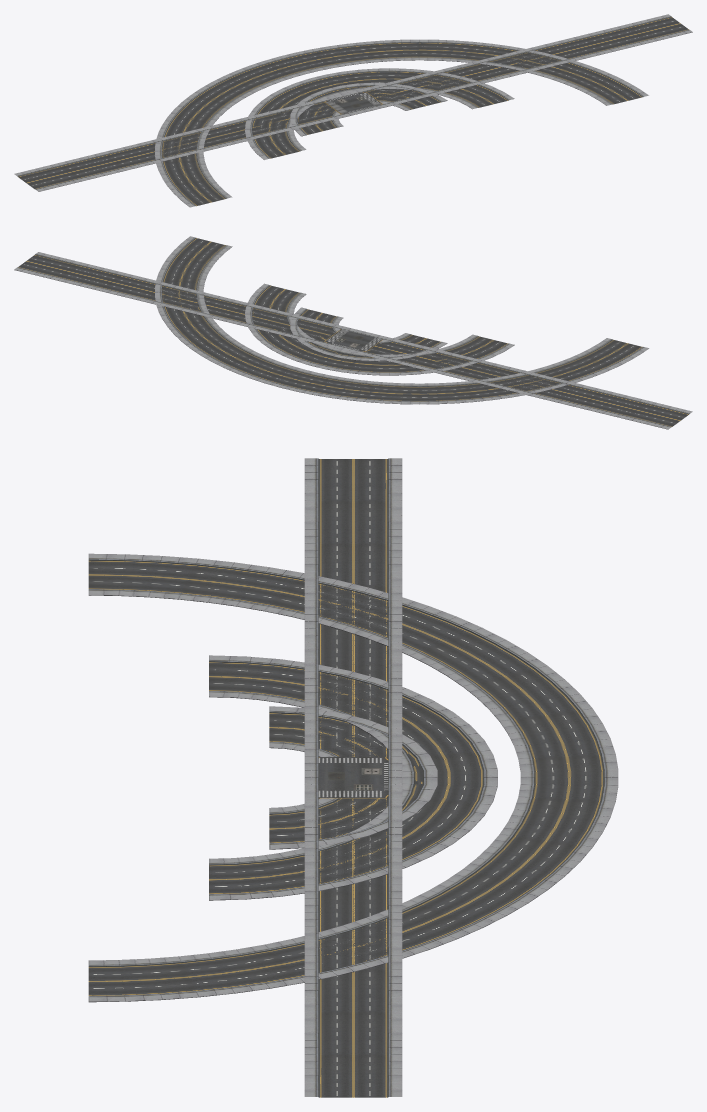
File: roads.glb
3 renders of one model, top to bottom at view 1: azimuth 30°, elevation 25°; view 2: azimuth 150°, elevation 25°; view 3: azimuth 270°, elevation 25°, orthographic. The views are drawn at different scales.
Parts seen in each view (by area): view 1: curve4, straight4, curve2, straight2, curve1, straight1, junctionX, cornerL; view 2: curve4, straight4, curve2, straight2, curve1, straight1, junctionT, cornerL; view 3: curve4, straight4, curve2, curve1, straight2, cornerL, straight1.
Boxes of the visible parts, x1,y1,x2,y2 form: curve4: [155, 39, 648, 207]; straight4: [14, 14, 692, 191]; curve2: [245, 68, 514, 159]; straight2: [181, 57, 526, 151]; curve1: [290, 82, 447, 136]; straight1: [263, 76, 447, 131]; junctionX: [324, 99, 382, 114]; cornerL: [324, 91, 379, 110]; curve4: [155, 236, 648, 404]; straight4: [14, 252, 692, 429]; curve2: [245, 283, 514, 375]; straight2: [181, 296, 519, 389]; curve1: [290, 307, 447, 361]; straight1: [267, 314, 443, 366]; junctionT: [337, 329, 382, 351]; cornerL: [324, 329, 376, 351]; curve4: [88, 553, 618, 1002]; straight4: [304, 458, 402, 1097]; curve2: [209, 655, 497, 900]; curve1: [269, 706, 437, 849]; straight2: [318, 620, 388, 937]; cornerL: [318, 763, 388, 798]; straight1: [318, 698, 388, 857].
Bounding box in the file's own units: 293 × 0.1072 × 103.
Materials: 2 (2 with a texture image).
